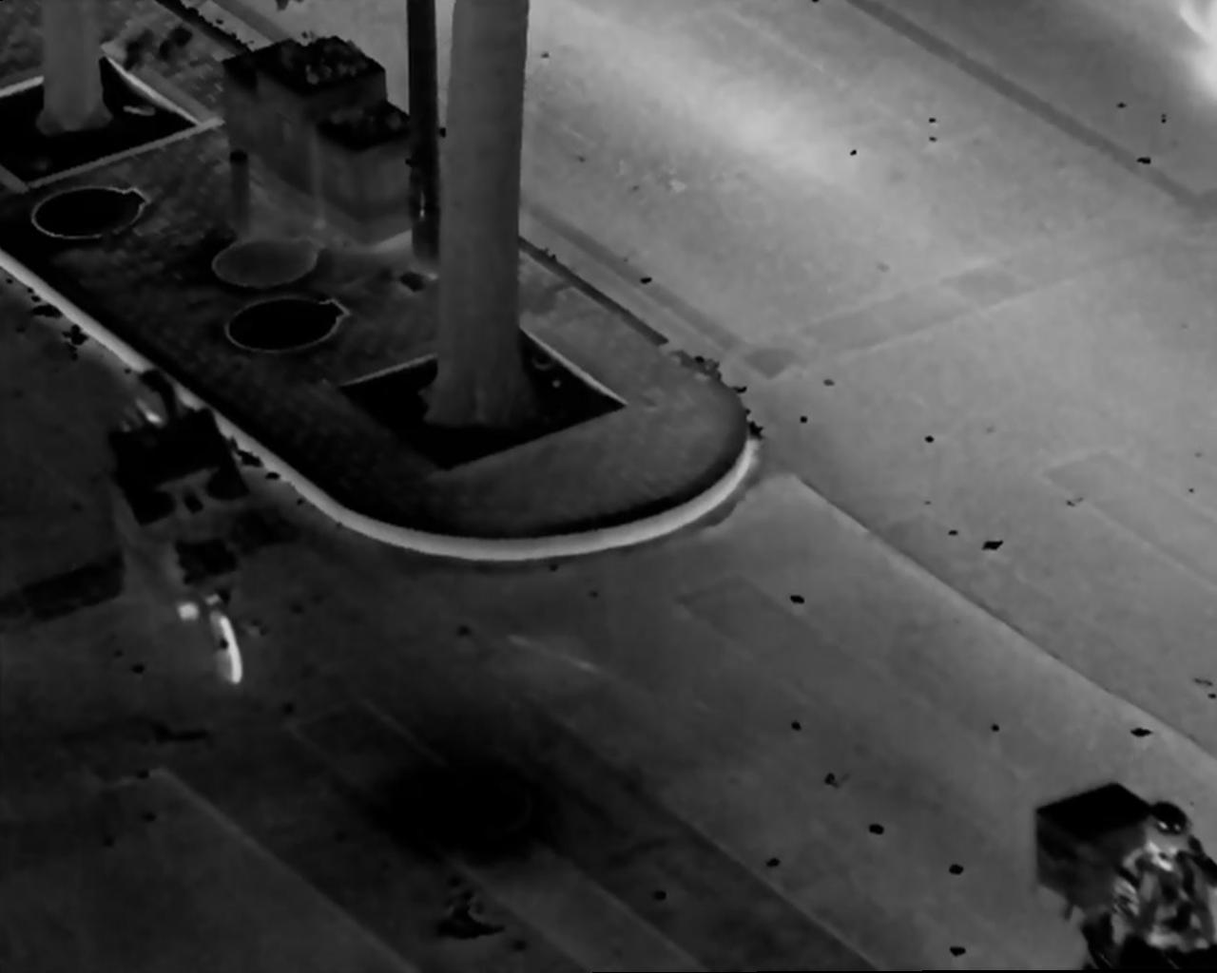person: (121, 372, 239, 600), (1123, 799, 1216, 973)
